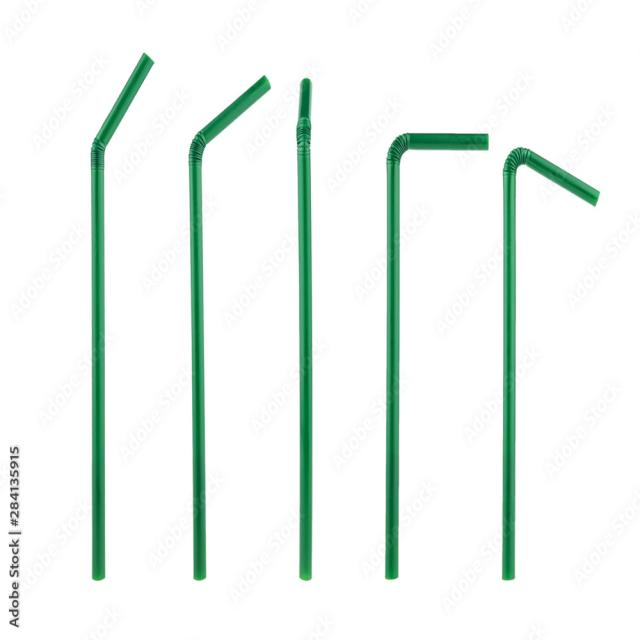plastic: (47, 26, 164, 592)
